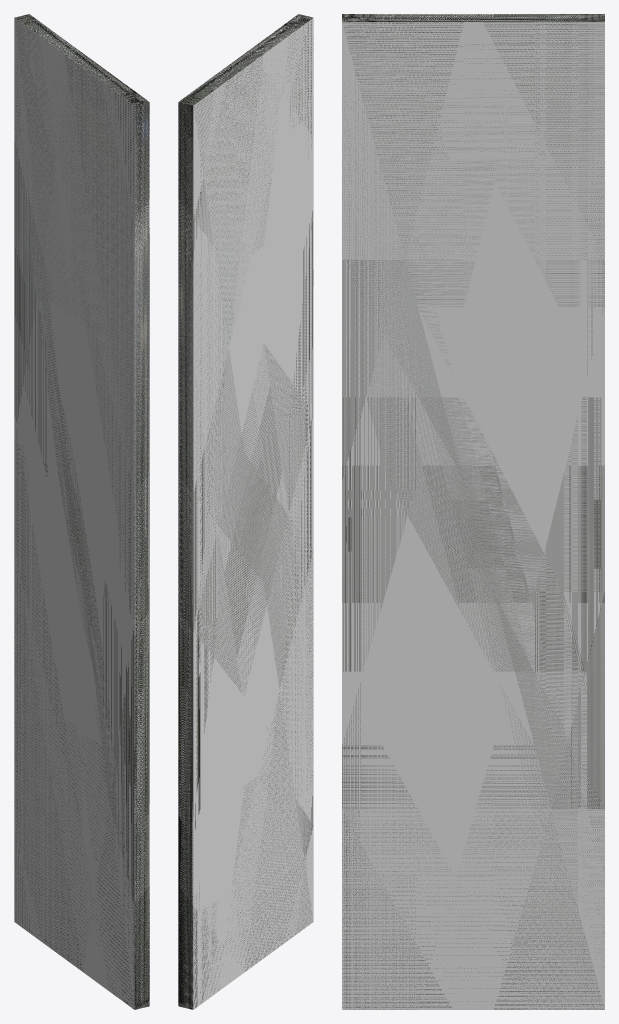
File: trennwand_klein.dae
3 views of the same model, side by side, from view 1: azimuth 30°, elevation 25°; view 2: azimuth 150°, elevation 25°; view 3: azimuth 270°, elevation 25° (orthographic). The views are drawn at different scales.
Parts seen in each view (by area): view 1: SketchUp; view 2: SketchUp; view 3: SketchUp.
Boxes of the visible parts, <box> form: SketchUp: <box>14,14,149,1009</box>; SketchUp: <box>178,14,313,1009</box>; SketchUp: <box>342,14,604,1009</box>.
Size of the model in its own units: 0.0453 by 0.6265 by 2.6.
Materials: 5 (3 with a texture image).
